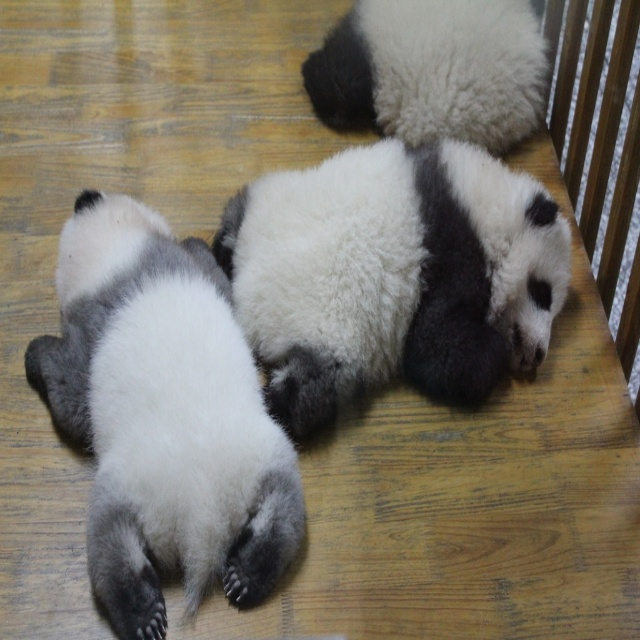Panda: (23, 184, 308, 639), (221, 130, 576, 460), (298, 0, 552, 157)
